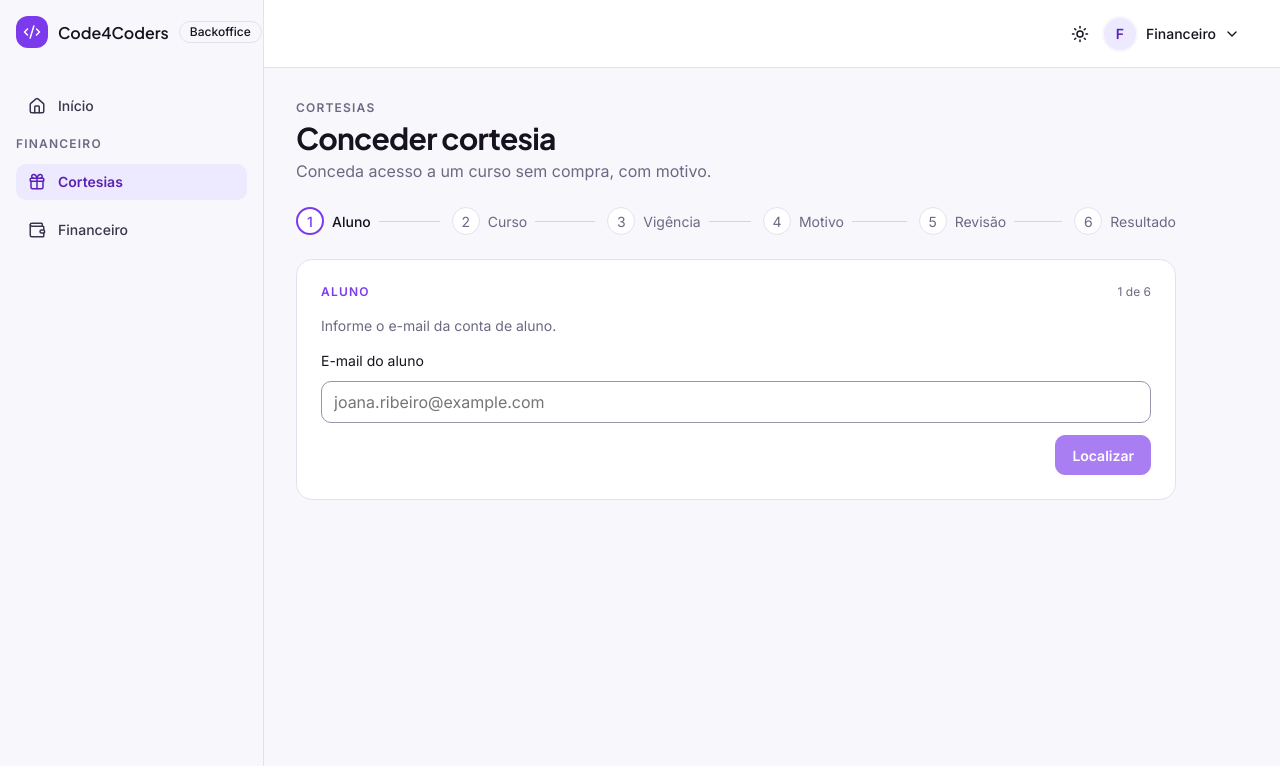
Test case: courtesy student lookup › finance opens the menu and finds an unconfirmed student using a normalized POST body and CSRF
Check: the heading "Conceder cortesia" is shown, box [296, 119, 556, 157]
Type "  JOANA@STUDENT.TEST  " into the field labelled "E-mail do aluno" at (736, 402), box [321, 382, 1151, 424]
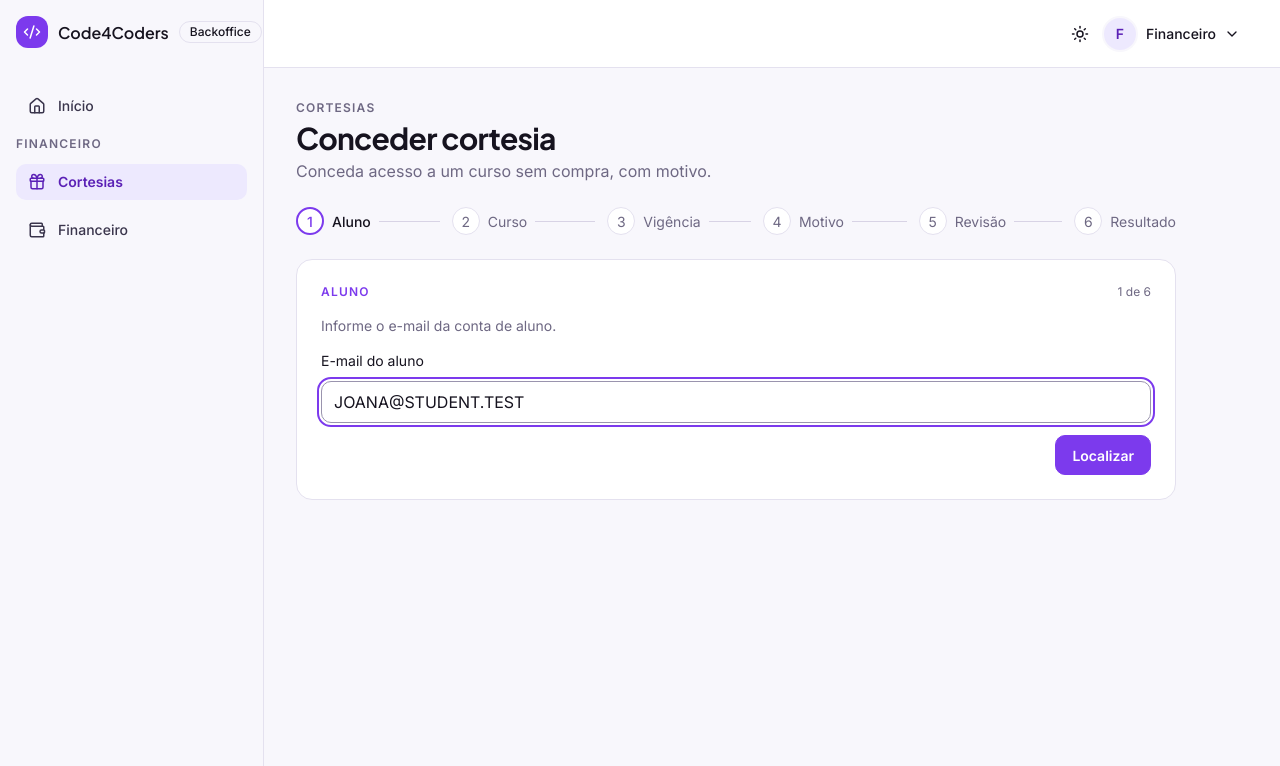
Click the button "Localizar" at (1103, 456), box [1055, 436, 1151, 476]
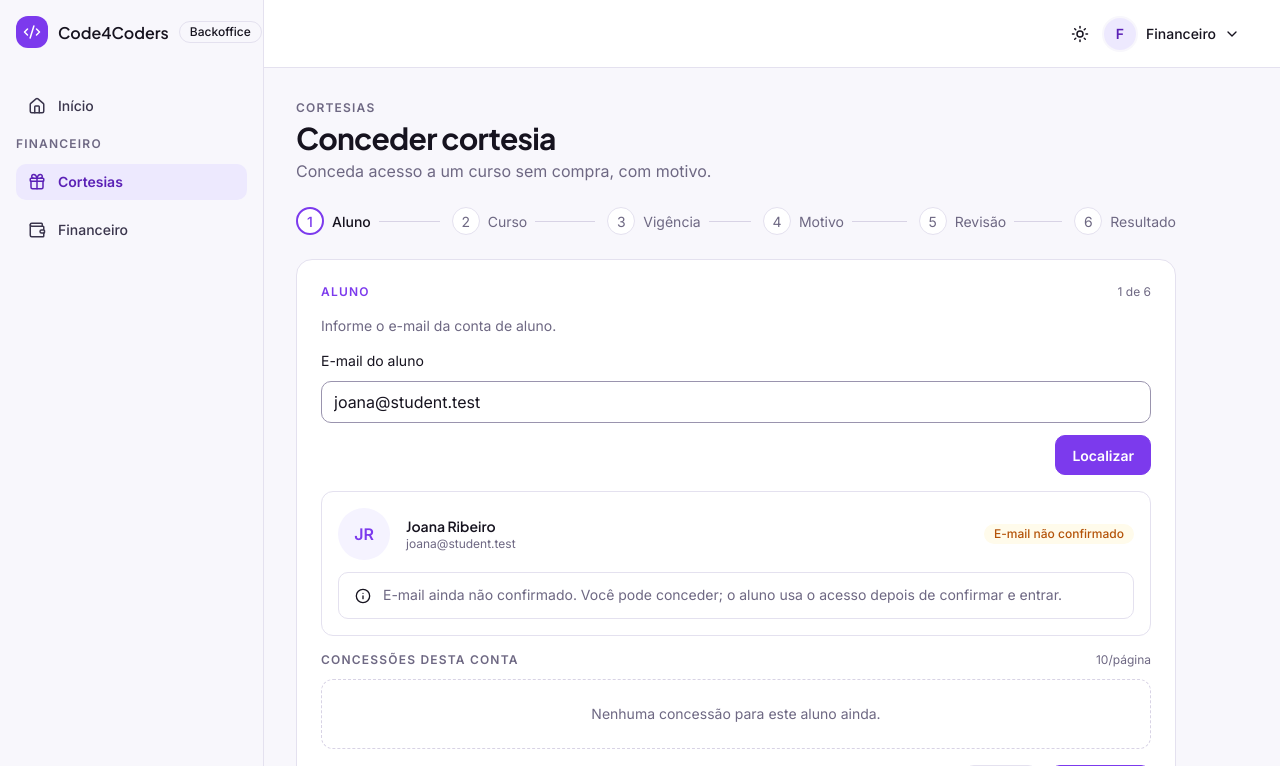
Check: the heading "Joana Ribeiro" is shown, box [406, 518, 496, 536]
Check: the text "joana@student.test" is shown, box [406, 536, 516, 552]
Check: the text "E-mail ainda não confirmado. Você pode conceder; o aluno usa o acesso depois de confirmar e entrar." is shown, box [383, 586, 1062, 604]
